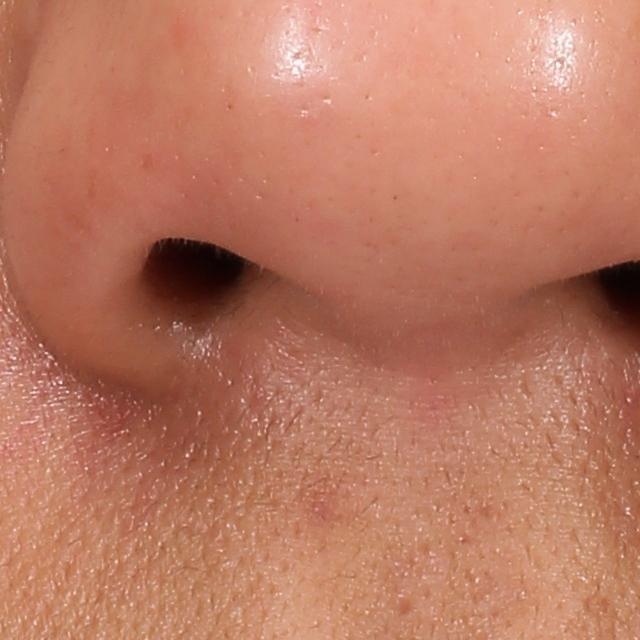atrophic_scar: (391, 596, 418, 625)
